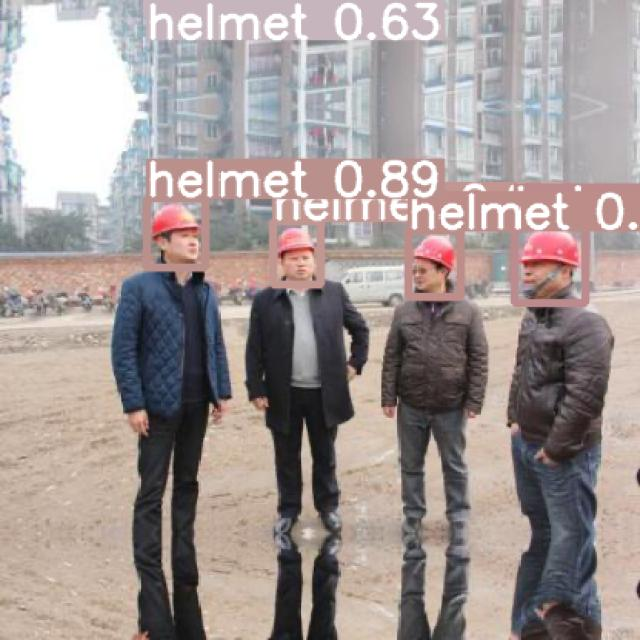helmet: (514, 222, 584, 302), (146, 197, 205, 267), (408, 230, 460, 296), (272, 220, 320, 284), (146, 0, 199, 14)
